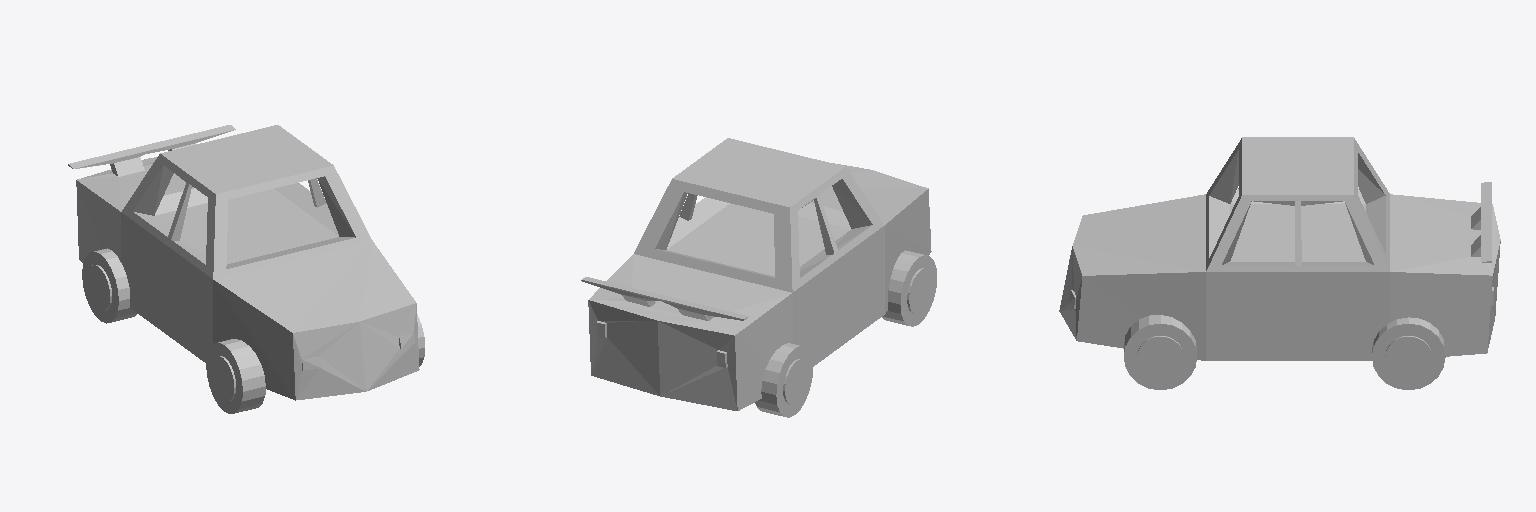
File: car.obj
3 views of the same model, side by side, from view 1: azimuth 30°, elevation 25°; view 2: azimuth 150°, elevation 25°; view 3: azimuth 270°, elevation 25° (orthographic).
Parts seen in each view (by area): view 1: pPlane6, test:FrontTires, test:BackTires1; view 2: pPlane6, test:BackTires1, test:FrontTires; view 3: pPlane6, test:FrontTires, test:BackTires1.
Part boxes in pixels (x1,y1,x2,y2): pPlane6: (68,125,419,400); test:FrontTires: (206,314,424,413); test:BackTires1: (82,248,137,323); pPlane6: (581,138,931,410); test:BackTires1: (755,343,812,417); test:FrontTires: (882,250,936,326); pPlane6: (1059,137,1500,360); test:FrontTires: (1124,315,1196,389); test:BackTires1: (1372,317,1445,389).
Size of the model in its own units: 1.17 by 1.08 by 2.4.